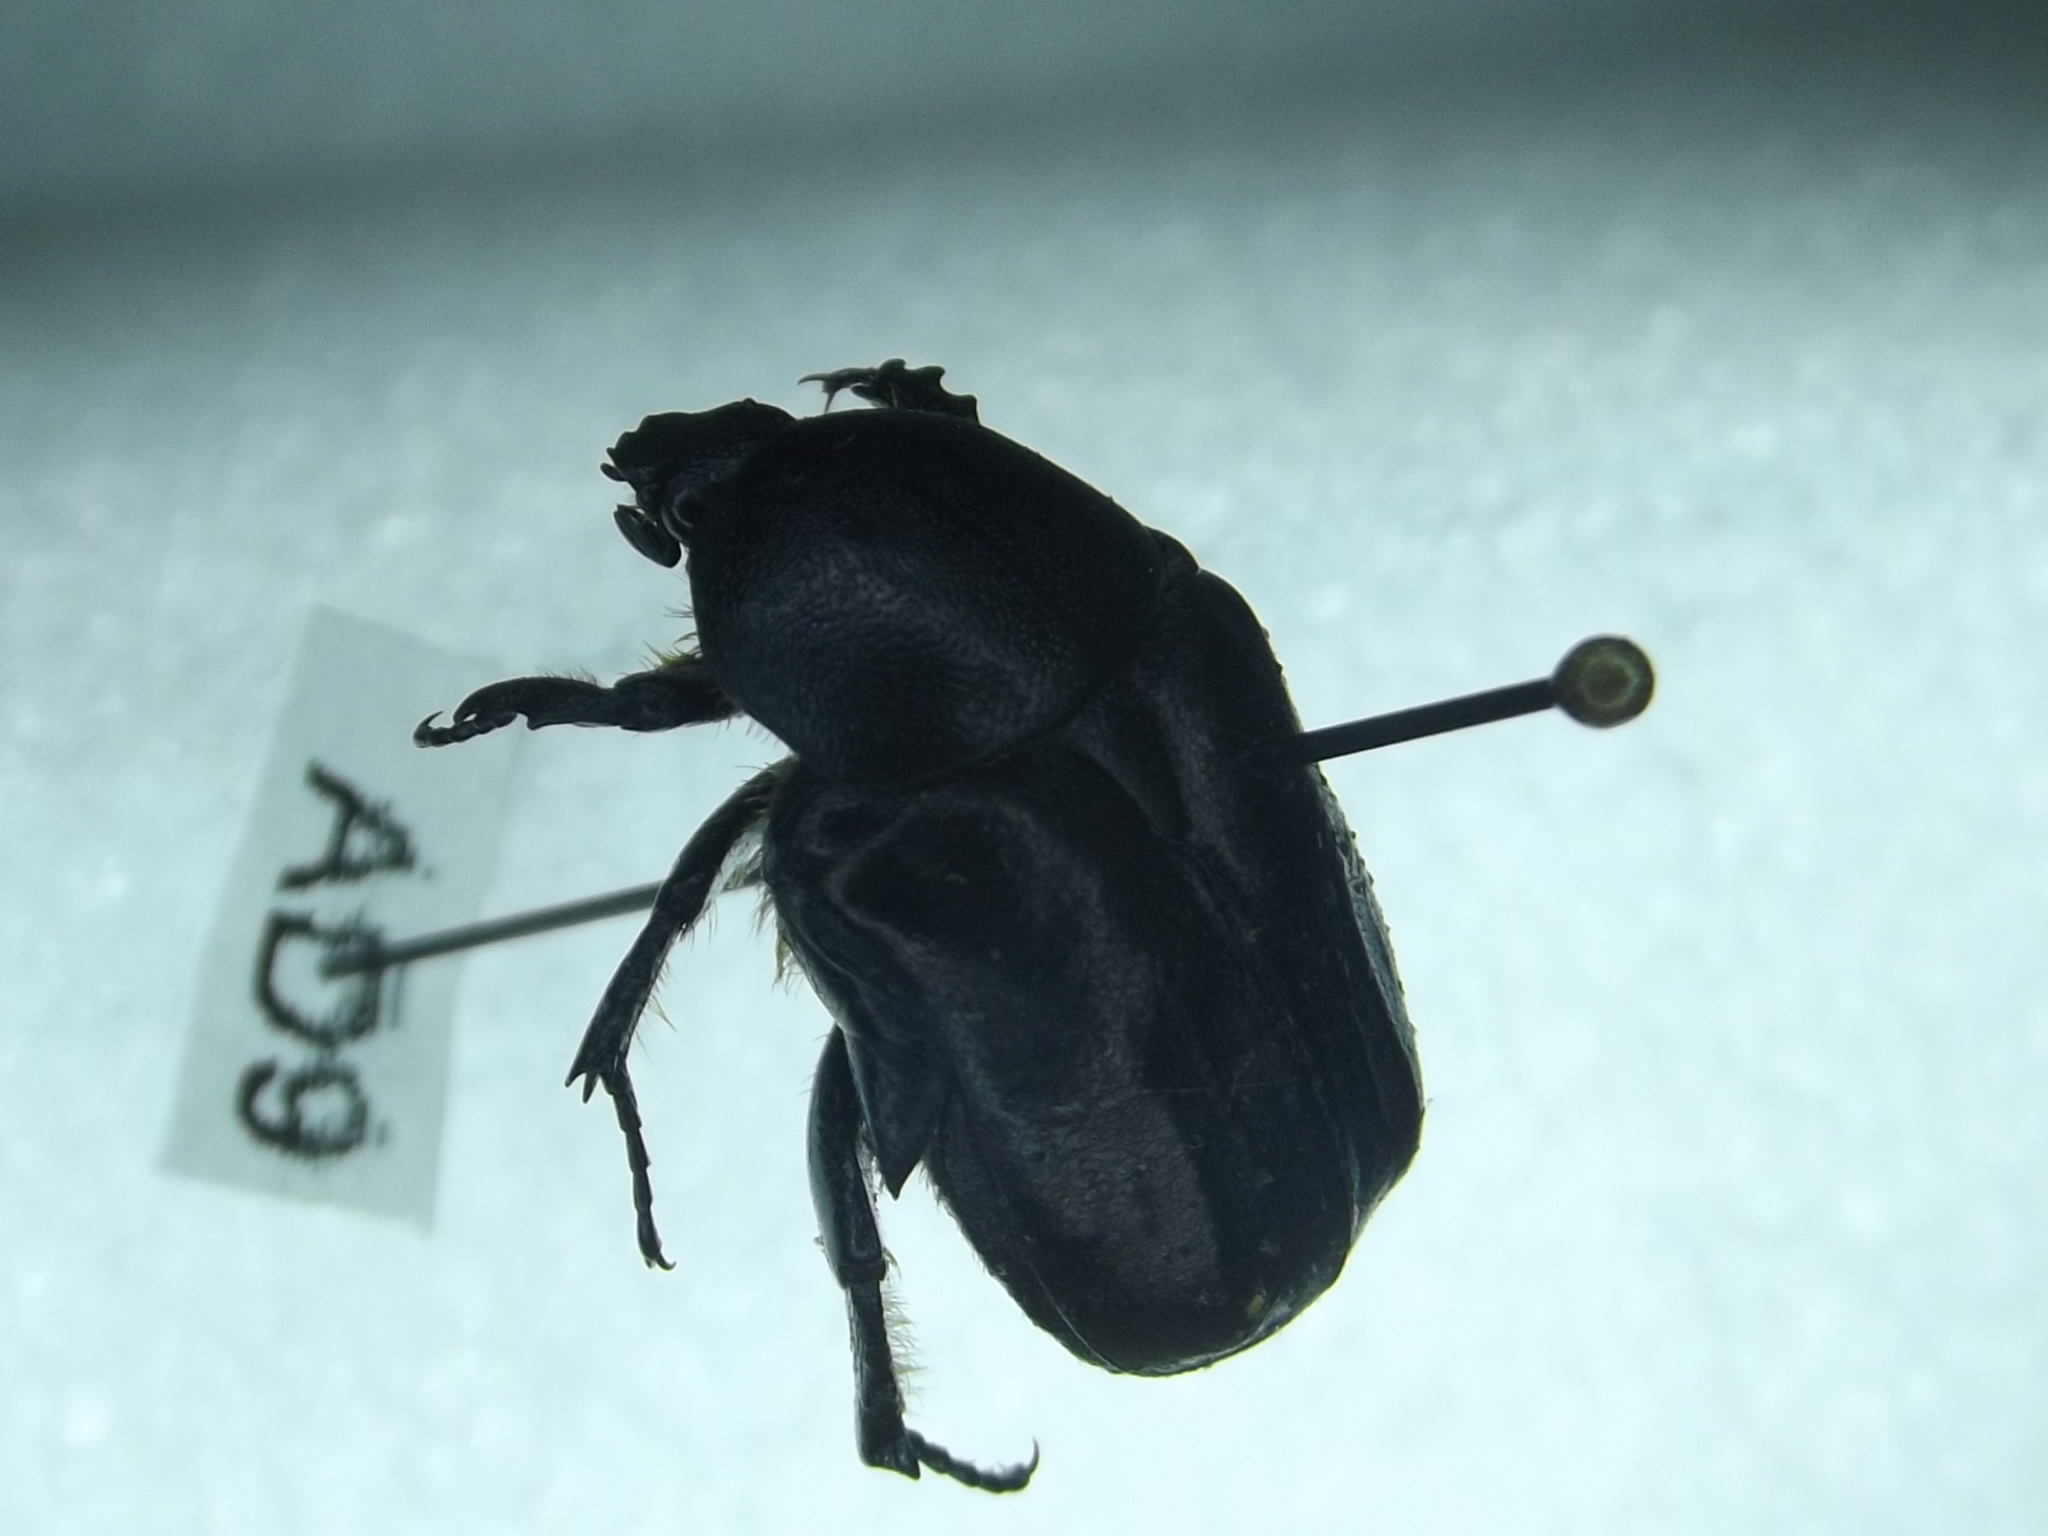Protaetia_vidua: (406, 358, 1492, 1496)
